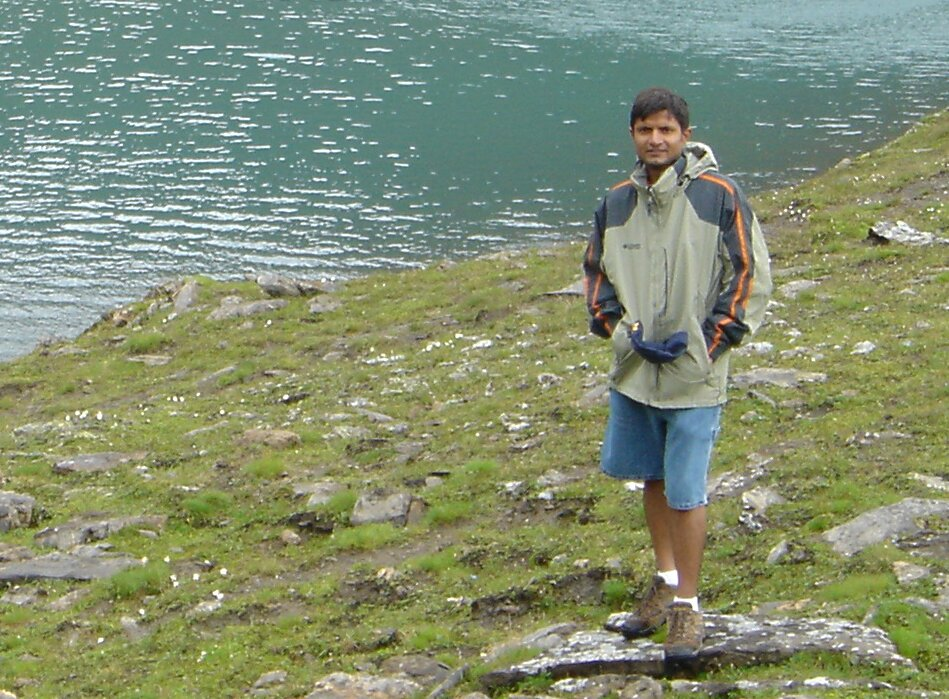person: (579, 83, 778, 671)
